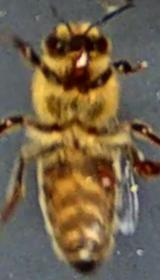varroa_mite: (92, 156, 115, 195)
